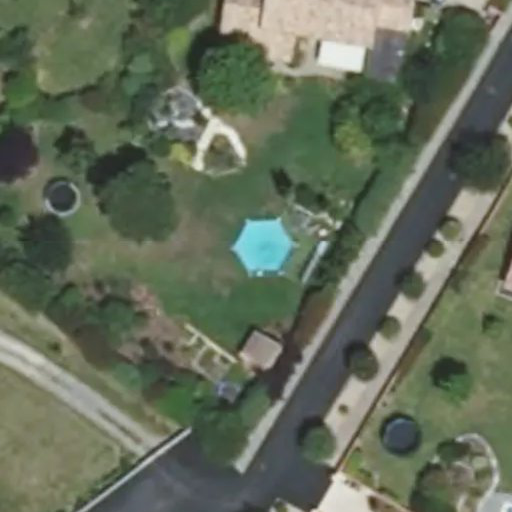pool: (215, 230, 296, 252)
